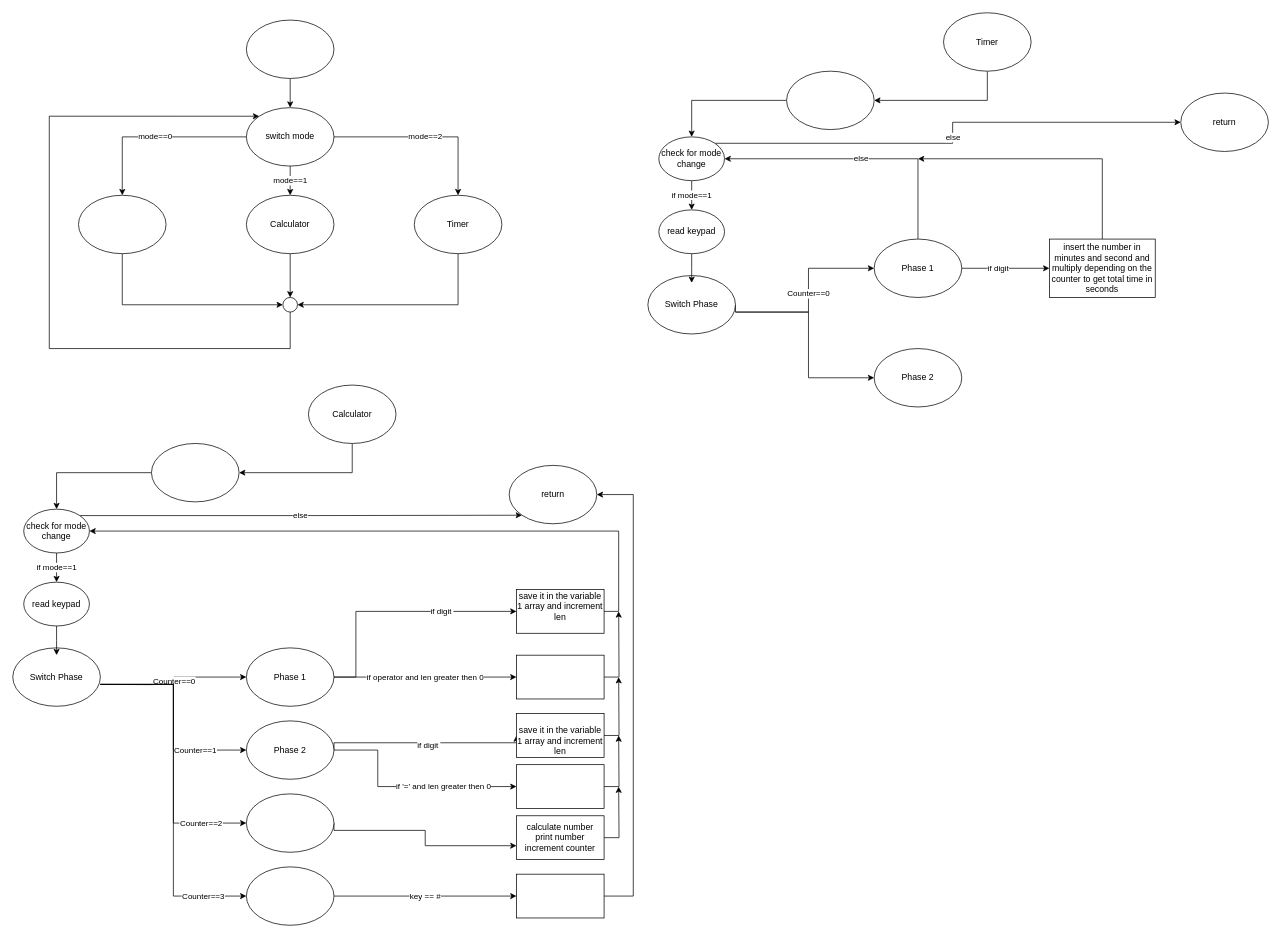
Some shapes in this 1281 by 938 pixel diagram are drawn without their labels. Each missing label, with the centre of its shape:
"Display" goes at (x=830, y=100).
"Init" goes at (x=290, y=48).
"initialize variables" goes at (x=195, y=472).
"Phase 3" goes at (x=290, y=822).
"Phase 4" goes at (x=290, y=895).
"reset the calcultor" goes at (x=560, y=895).
"save operator increment the counter reset len" goes at (x=560, y=676).
"save the number increment the counter" goes at (x=560, y=786).
"Stopwatch" goes at (x=122, y=224).
